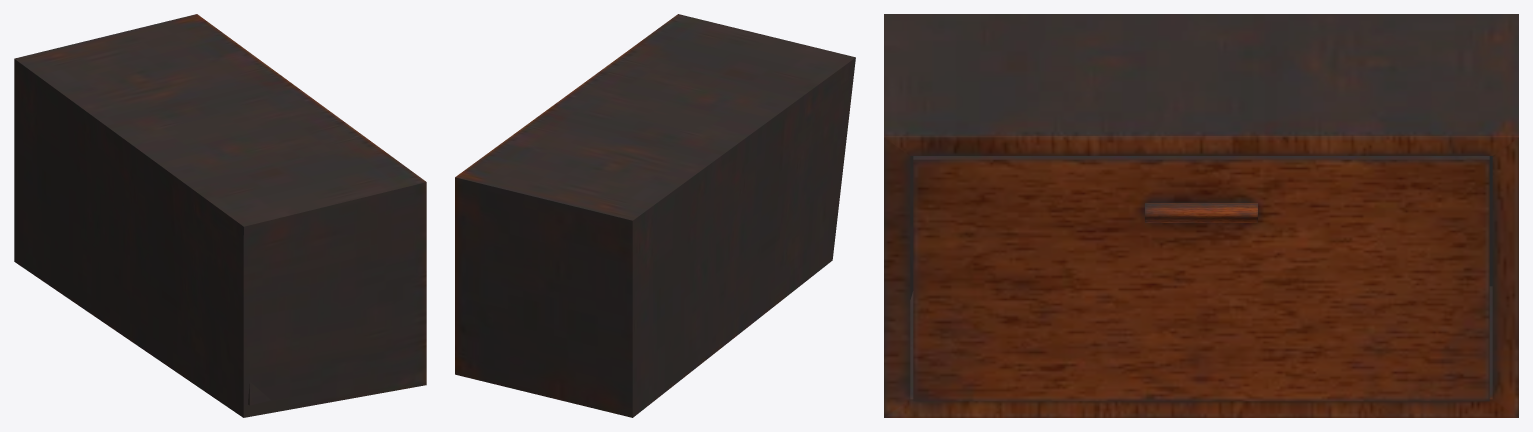
The model's file is comodo.glb.
3 renders of one model, left to right at view 1: azimuth 30°, elevation 25°; view 2: azimuth 150°, elevation 25°; view 3: azimuth 270°, elevation 25°, orthographic. The views are drawn at different scales.
Parts seen in each view (by area): view 1: Comoda pequeño; view 2: Comoda pequeño; view 3: Caja, Comoda pequeño, Mango.
Boxes of the visible parts, x1,y1,x2,y2 form: Comoda pequeño: (14, 14, 426, 417); Comoda pequeño: (455, 14, 855, 417); Caja: (913, 156, 1489, 401); Comoda pequeño: (884, 14, 1518, 417); Mango: (1145, 203, 1257, 222).
Size of the model in its own units: 0.1757 by 0.1752 by 0.3594.
2 materials, 1 textured.
